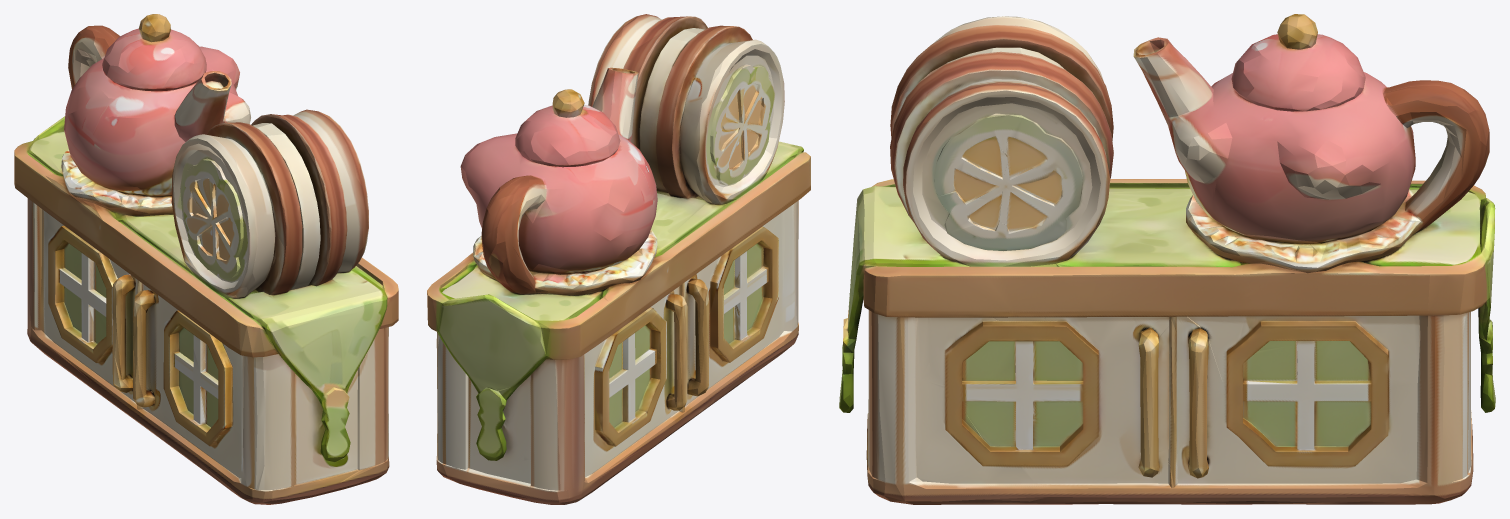
File: WoodenCabinet.glb
3 renders of one model, left to right at view 1: azimuth 30°, elevation 25°; view 2: azimuth 150°, elevation 25°; view 3: azimuth 270°, elevation 25°, orthographic. The views are drawn at different scales.
Visible parts, largest first — view 1: model; view 2: model; view 3: model.
Boxes of the visible parts, box(x1,y1,x2,y2) form: model: box(14, 14, 398, 504); model: box(427, 14, 810, 504); model: box(839, 14, 1495, 504).
Size of the model in its own units: 0.6491 by 1.29 by 1.7.
1 material, 1 textured.
